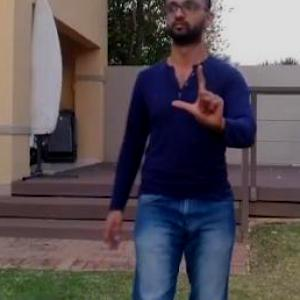land_hand: (162, 56, 229, 136)
